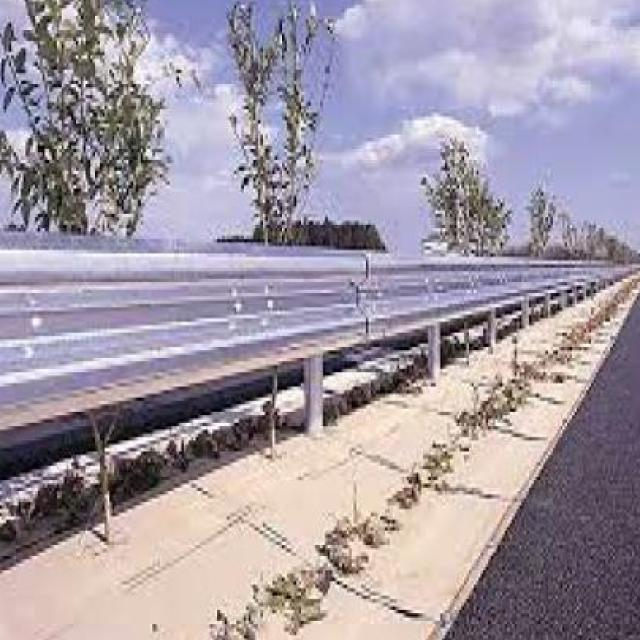Guard rail: (0, 214, 637, 447)
